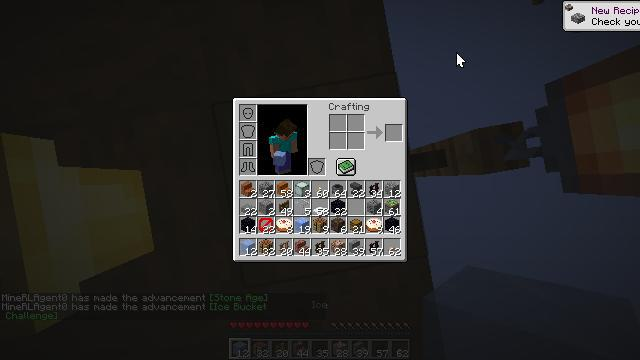cursor: (456, 52, 466, 68)
